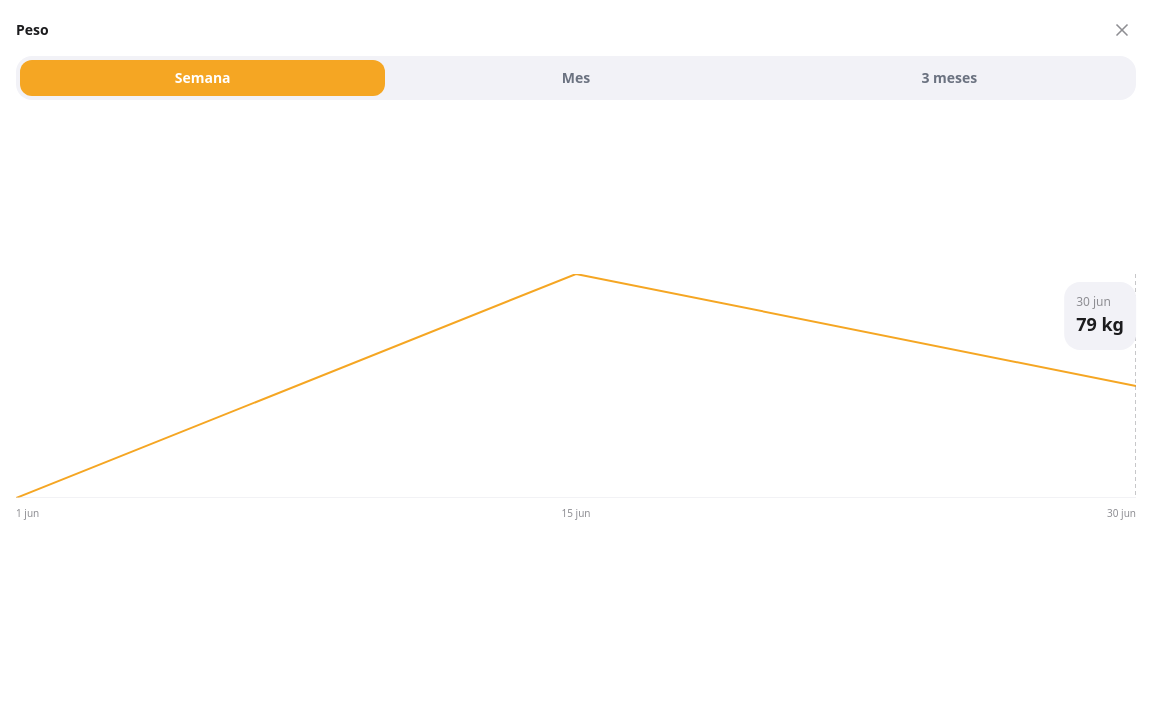
Test case: FullscreenScrubChart › scrubbing updates the tooltip with the snapped point's date, value, and unit
Press the mouse on the element with test id "scrub-plot" at [576, 386], box [16, 274, 1136, 498]
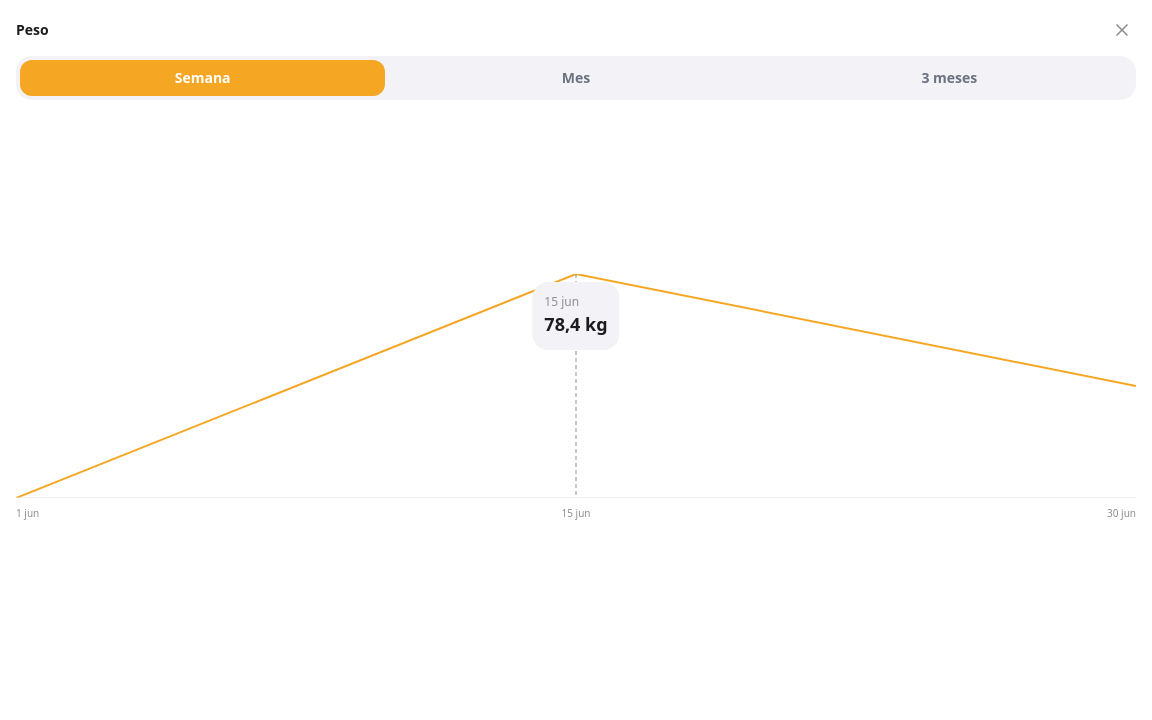
Expected: the 1st text "15 jun" is shown, [544, 293, 579, 310]
Expected: the text "78,4 kg" is shown, [544, 310, 608, 338]
